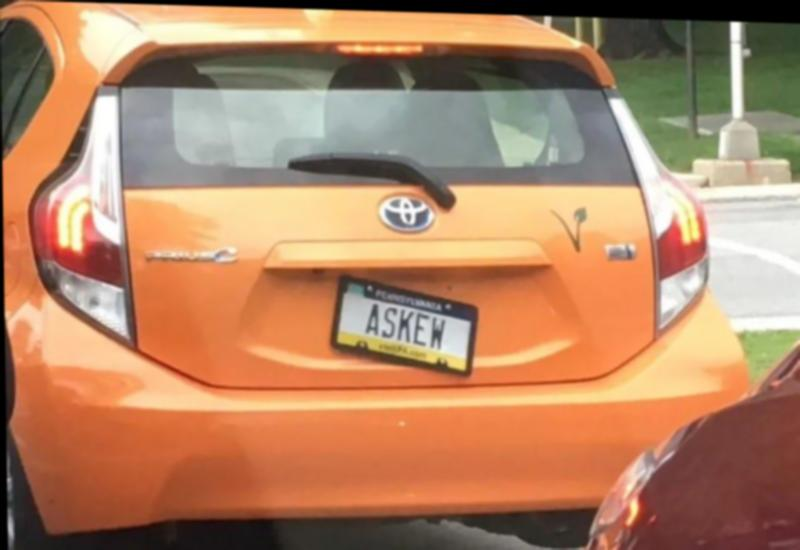License_Plate: (324, 265, 508, 396)
